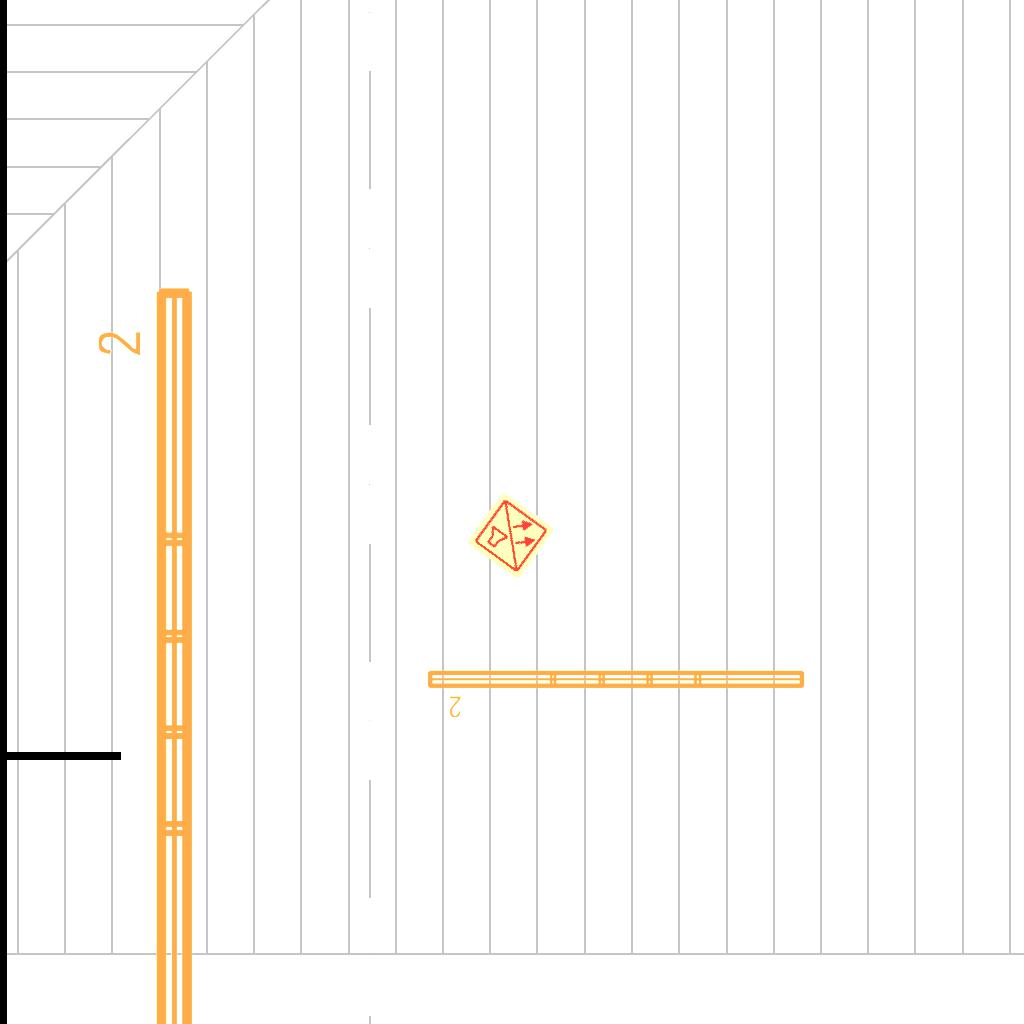Ambulanz_Pendelleuchte_LED: (93, 279, 205, 1024), (423, 664, 810, 720)
OKW_Multisensormelder_(Kombination_optischer_Rauch-Kahlenmonoxid_Waerme-Melder): (464, 489, 558, 583)
